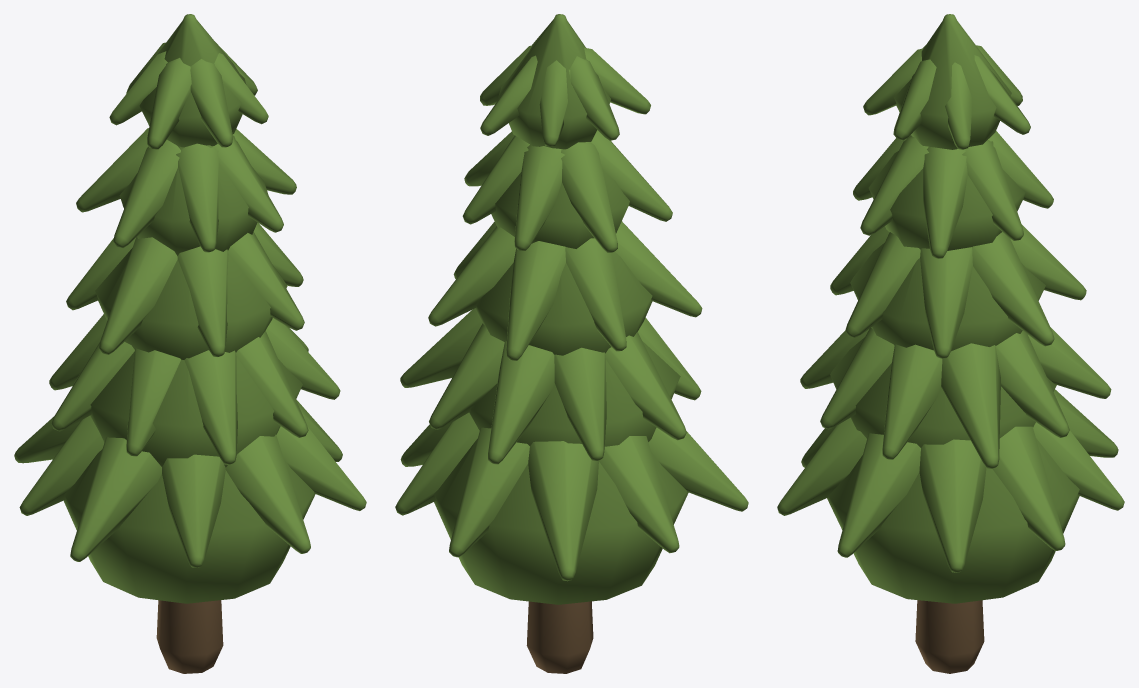
The model's file is prop_pine4_9ff5.glb.
3 renders of one model, left to right at view 1: azimuth 30°, elevation 25°; view 2: azimuth 150°, elevation 25°; view 3: azimuth 270°, elevation 25°, orthographic.
Parts seen in each view (by area): view 1: prop_pine4_9ff5; view 2: prop_pine4_9ff5; view 3: prop_pine4_9ff5.
Part boxes in pixels (<box>): prop_pine4_9ff5: <box>14,14,366,673</box>; prop_pine4_9ff5: <box>395,14,748,673</box>; prop_pine4_9ff5: <box>777,14,1124,673</box>.
Bounding box in the file's own units: 1.28 × 2.61 × 1.25.
Materials: 1 (1 with a texture image).
